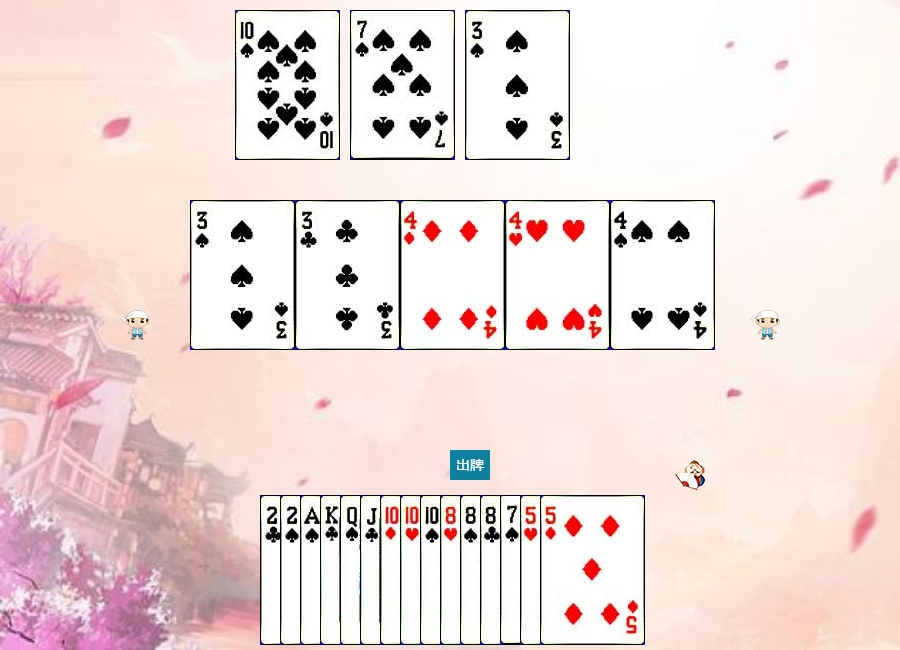10~1: (380, 495, 485, 645)
10~3: (400, 495, 505, 645)
10~4: (235, 10, 340, 160), (420, 495, 525, 645)
11~2: (360, 495, 465, 645)
12~4: (340, 495, 445, 645)
13~2: (320, 495, 425, 645)
14~4: (300, 495, 405, 645)
15~2: (260, 495, 365, 645)
15~4: (280, 495, 385, 645)
3~2: (295, 200, 400, 350)
3~4: (465, 10, 570, 160), (190, 200, 295, 350)
4~1: (400, 200, 505, 350)
4~3: (505, 200, 610, 350)
4~4: (610, 200, 715, 350)
5~1: (540, 495, 645, 645)
5~3: (520, 495, 625, 645)
7~4: (350, 10, 455, 160), (500, 495, 605, 645)
8~2: (480, 495, 585, 645)
8~3: (440, 495, 545, 645)
8~4: (460, 495, 565, 645)
